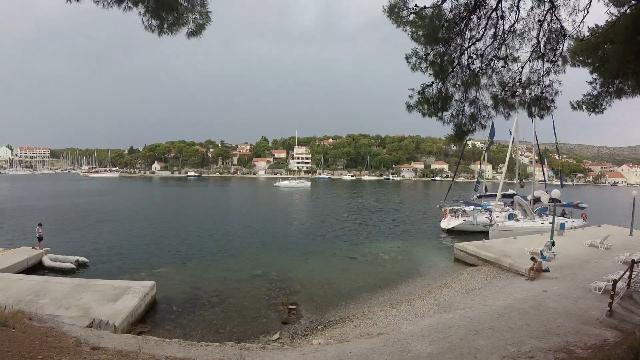Sailboat: (270, 175, 316, 191)
